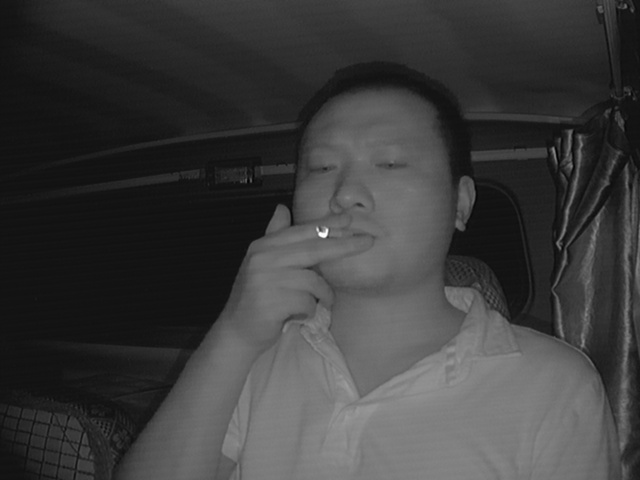hand: (229, 202, 369, 338)
